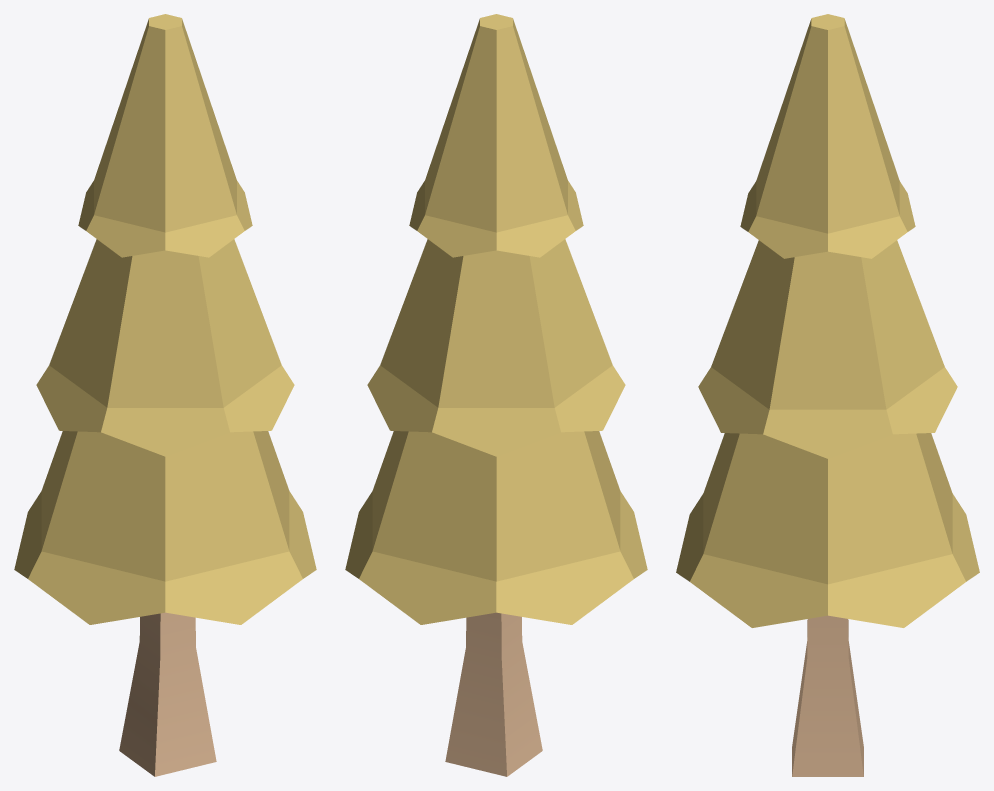
The model's file is Tree 1.fbx.
3 views of the same model, side by side, from view 1: azimuth 30°, elevation 25°; view 2: azimuth 150°, elevation 25°; view 3: azimuth 270°, elevation 25° (orthographic).
Visible parts, largest first — view 1: pasted__tree; view 2: pasted__tree; view 3: pasted__tree.
Boxes of the visible parts, box(x1,y1,x2,y2) form: pasted__tree: box(14, 14, 316, 776); pasted__tree: box(345, 14, 647, 776); pasted__tree: box(676, 14, 979, 776).
Size of the model in its own units: 1.11 by 2.82 by 1.05.
